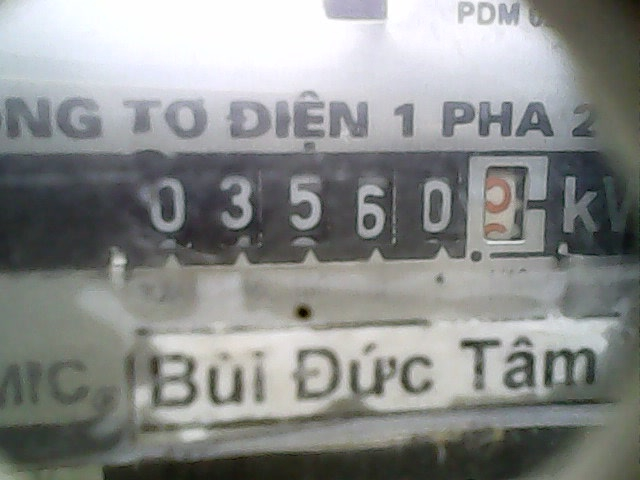phy_plate: (118, 150, 562, 257)
